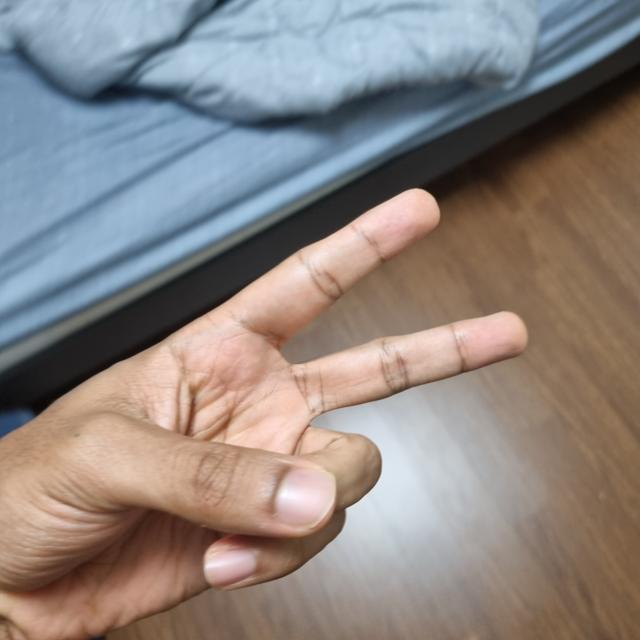Scissors: (2, 330, 341, 639)
